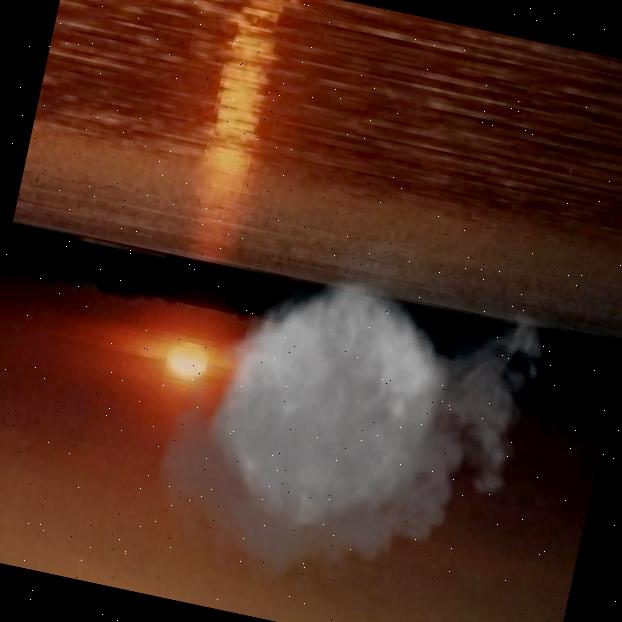smoke: (124, 179, 577, 622)
